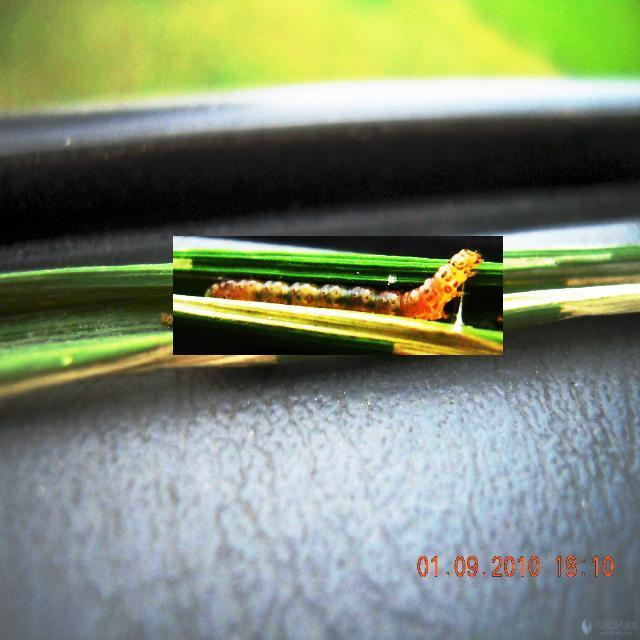leaf-folder: (173, 236, 503, 355)
